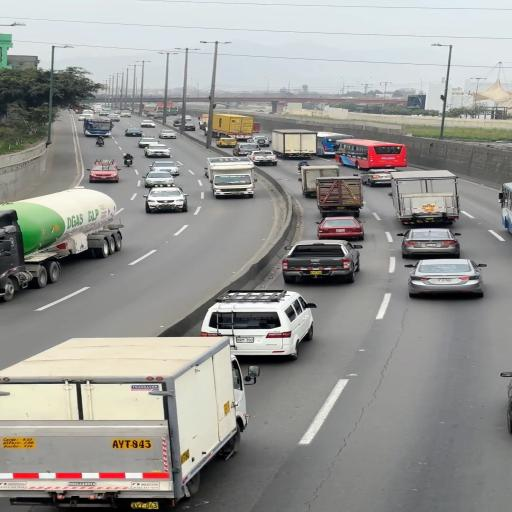auto: (215, 294, 309, 356), (278, 240, 362, 283), (404, 258, 484, 296), (398, 228, 462, 258), (142, 186, 190, 212), (315, 216, 366, 240), (143, 170, 177, 188), (361, 169, 393, 187), (148, 160, 180, 177), (143, 144, 171, 158)
bus: (334, 138, 407, 171), (314, 131, 354, 156), (498, 181, 512, 235), (82, 116, 113, 137)
camion: (0, 342, 250, 506), (1, 192, 123, 298), (385, 169, 459, 224), (204, 156, 258, 199), (314, 177, 365, 217), (271, 128, 320, 159), (298, 164, 342, 198), (209, 113, 255, 142), (199, 114, 209, 130)
moto: (121, 153, 134, 165)
